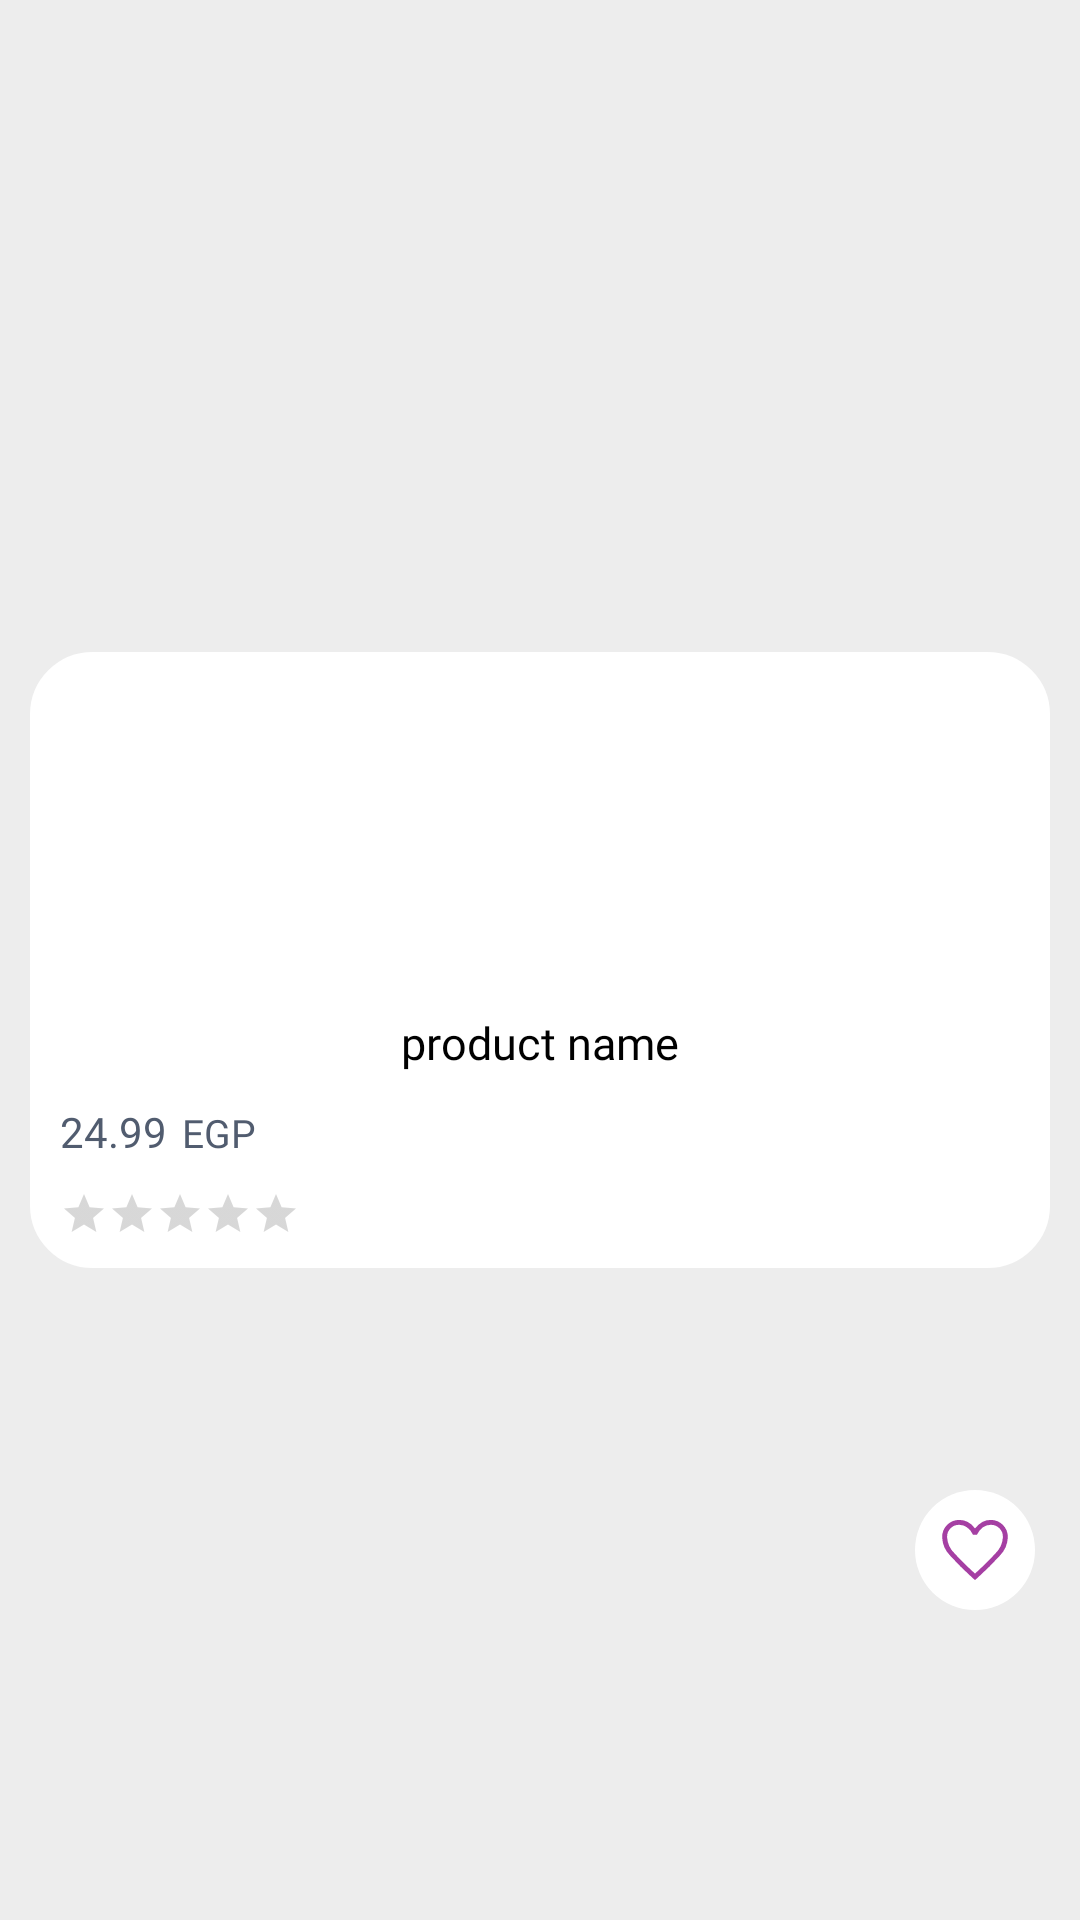

Icon bounding boxes for this 1080*1920 phone screenshot, format detection(x1, y1, x2, y2):
favorite border group: detection(942, 1520, 1008, 1580)
